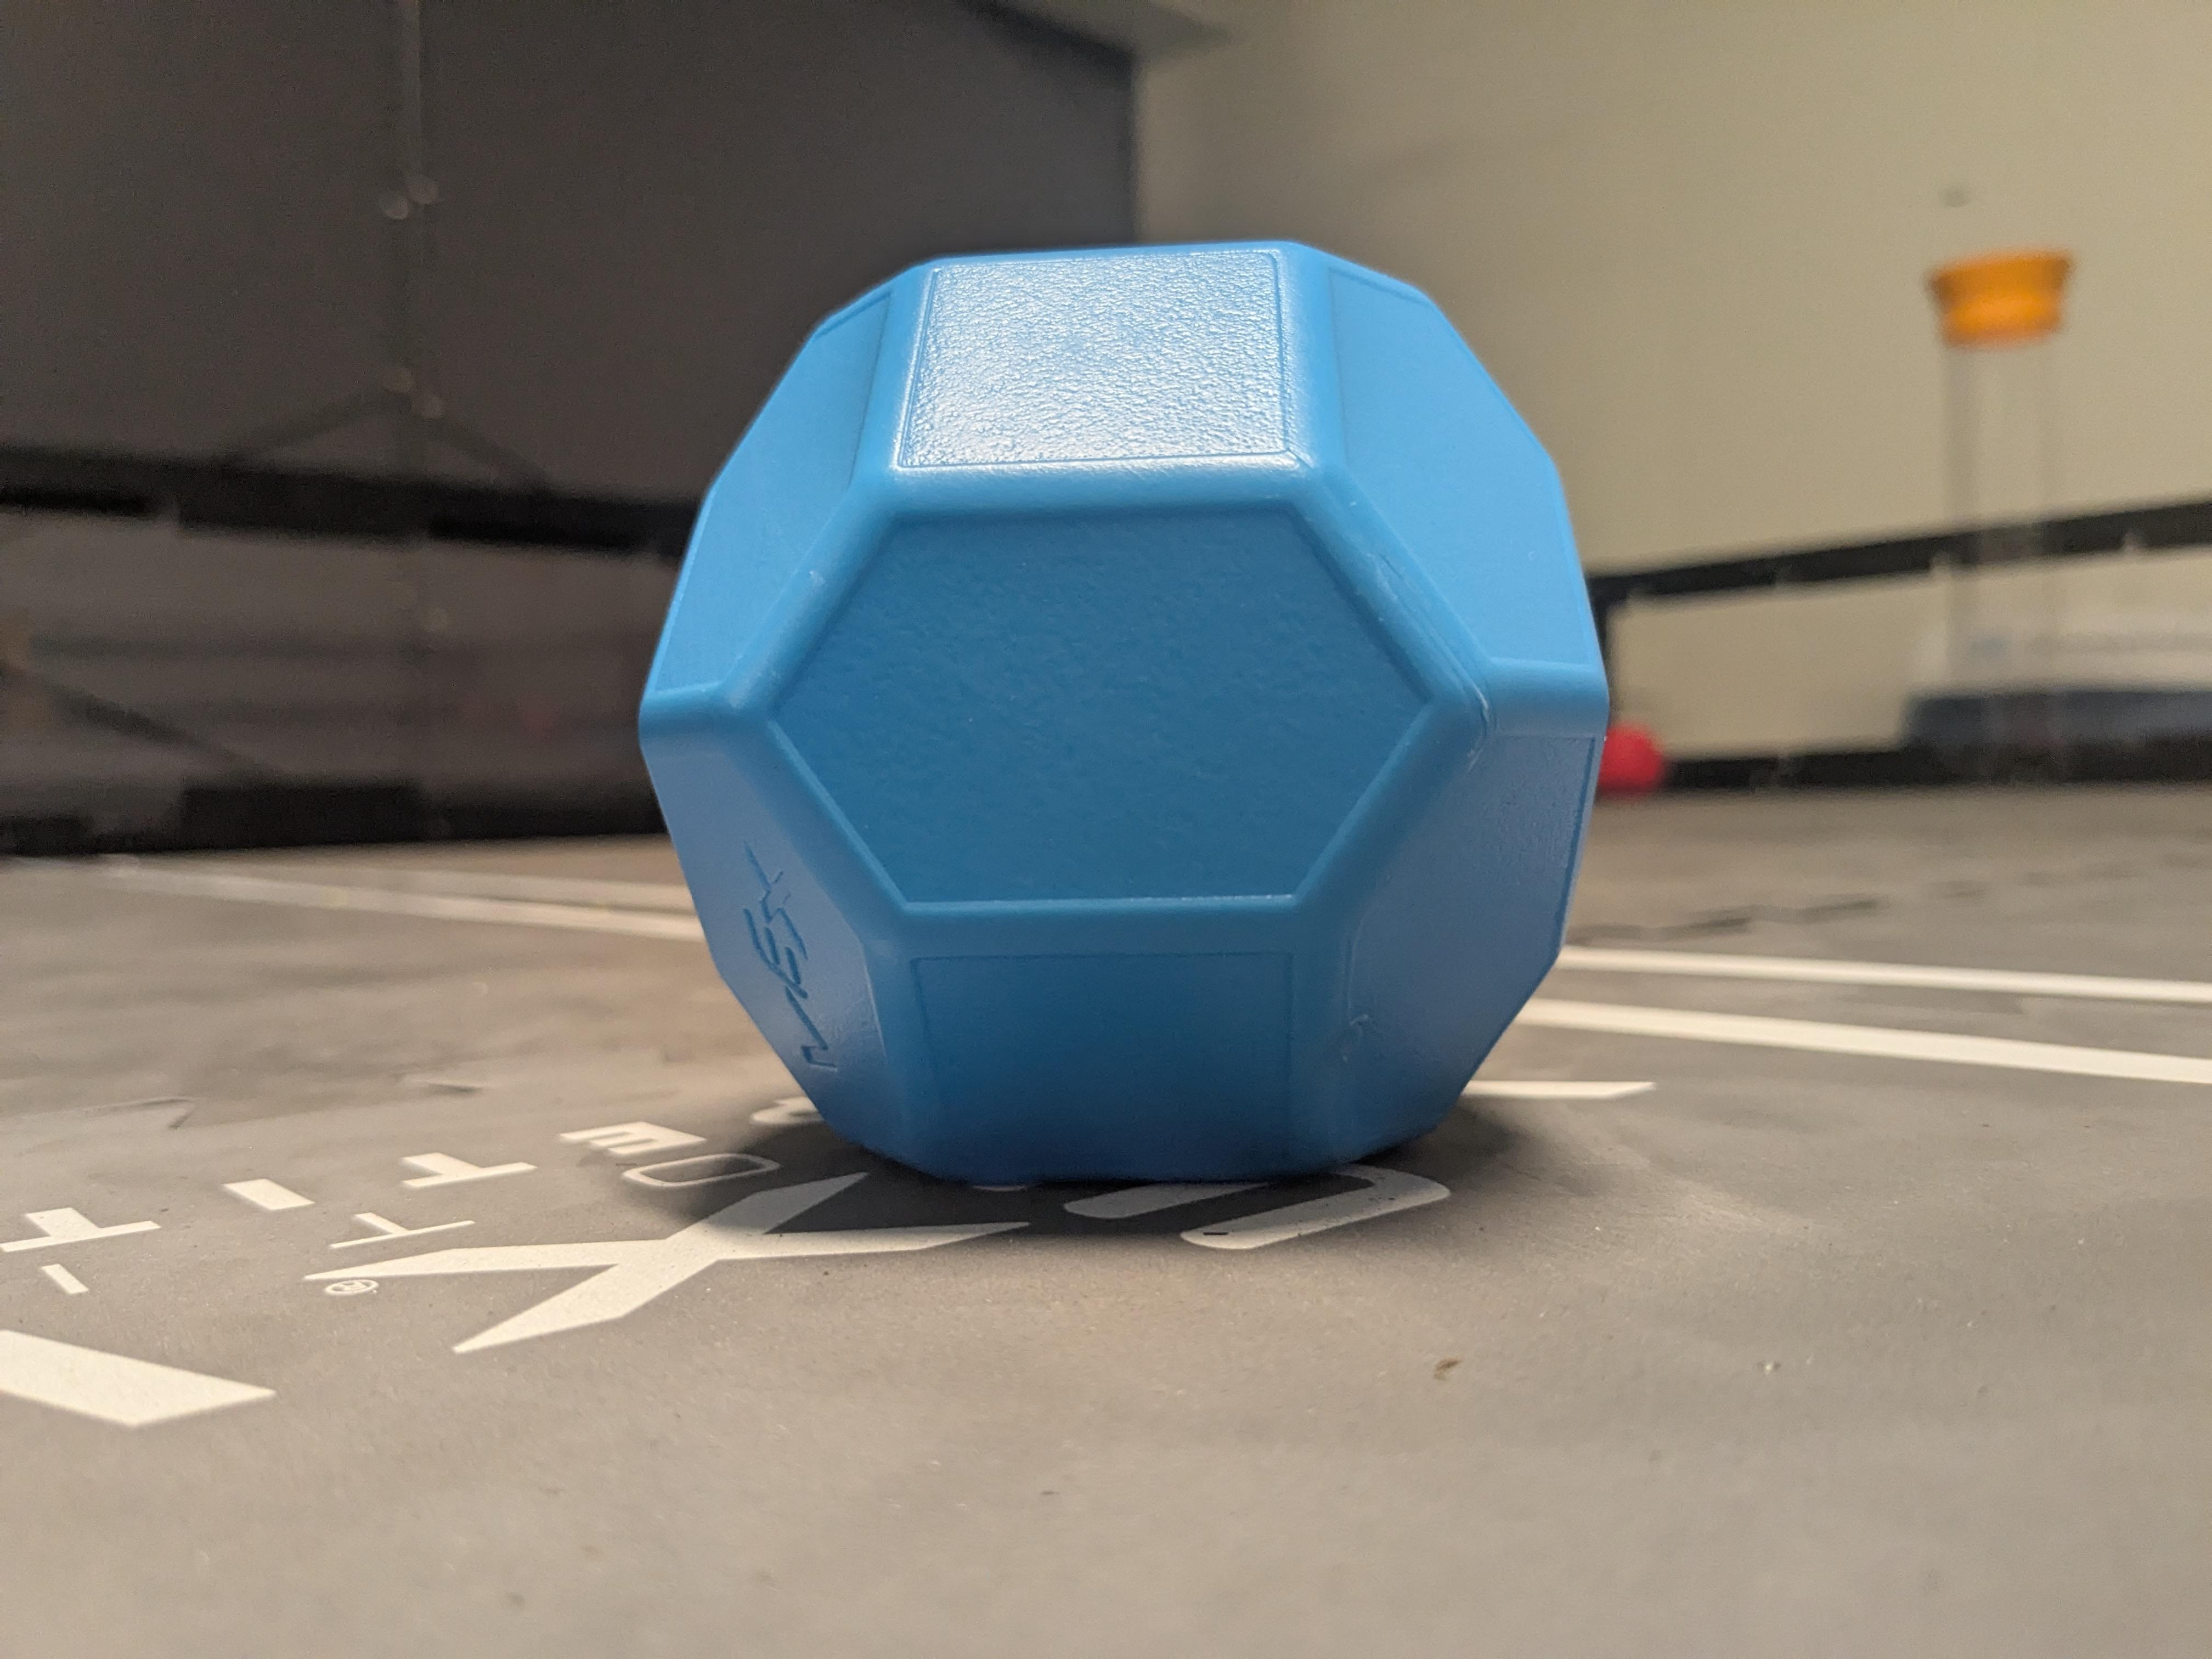Vex-Pieces-BLUE: (639, 239, 1608, 1209)
